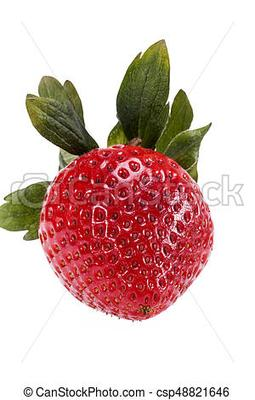strawberry: (0, 0, 255, 400)
